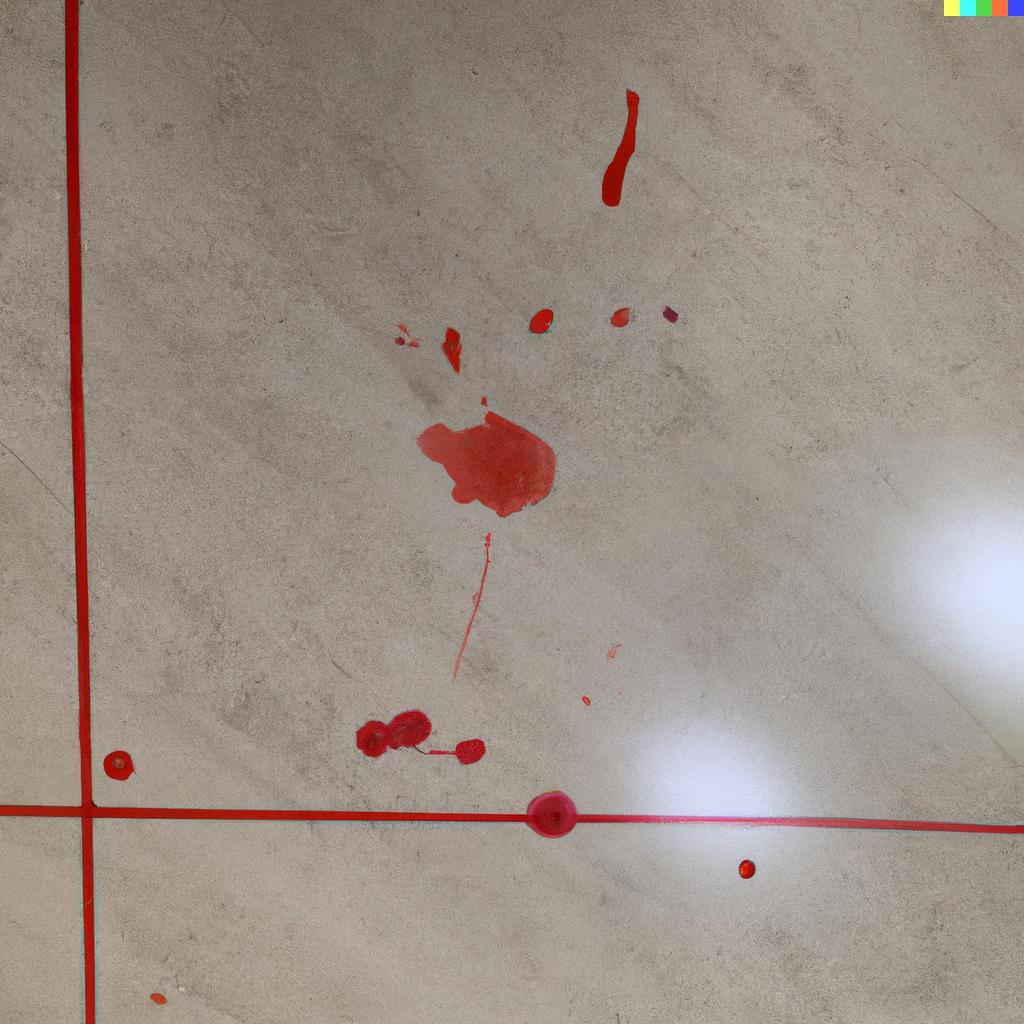Fire: (416, 411, 556, 518), (601, 87, 639, 207), (355, 711, 432, 757), (526, 790, 578, 838), (426, 738, 485, 765), (103, 750, 134, 780), (529, 308, 553, 333), (610, 307, 629, 327)
